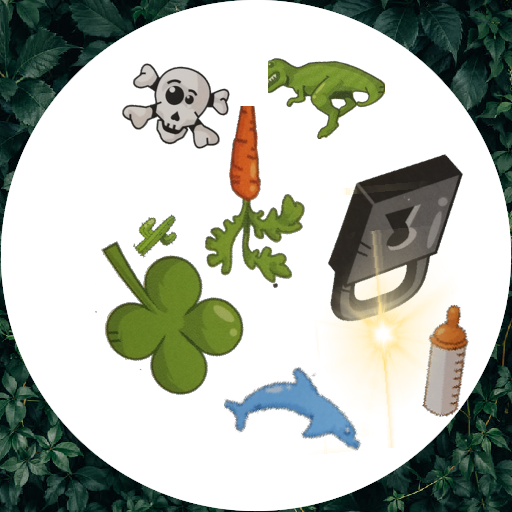bottle_icon: (390, 304, 505, 419)
cactus_icon: (127, 207, 182, 262)
carrot_icon: (146, 106, 334, 294)
cloverleaf_icon: (93, 226, 262, 395)
dino_icon: (268, 22, 385, 139)
dolphin_icon: (224, 342, 367, 485)
lock_icon: (306, 146, 487, 327)
skull_icon: (121, 45, 241, 165)
